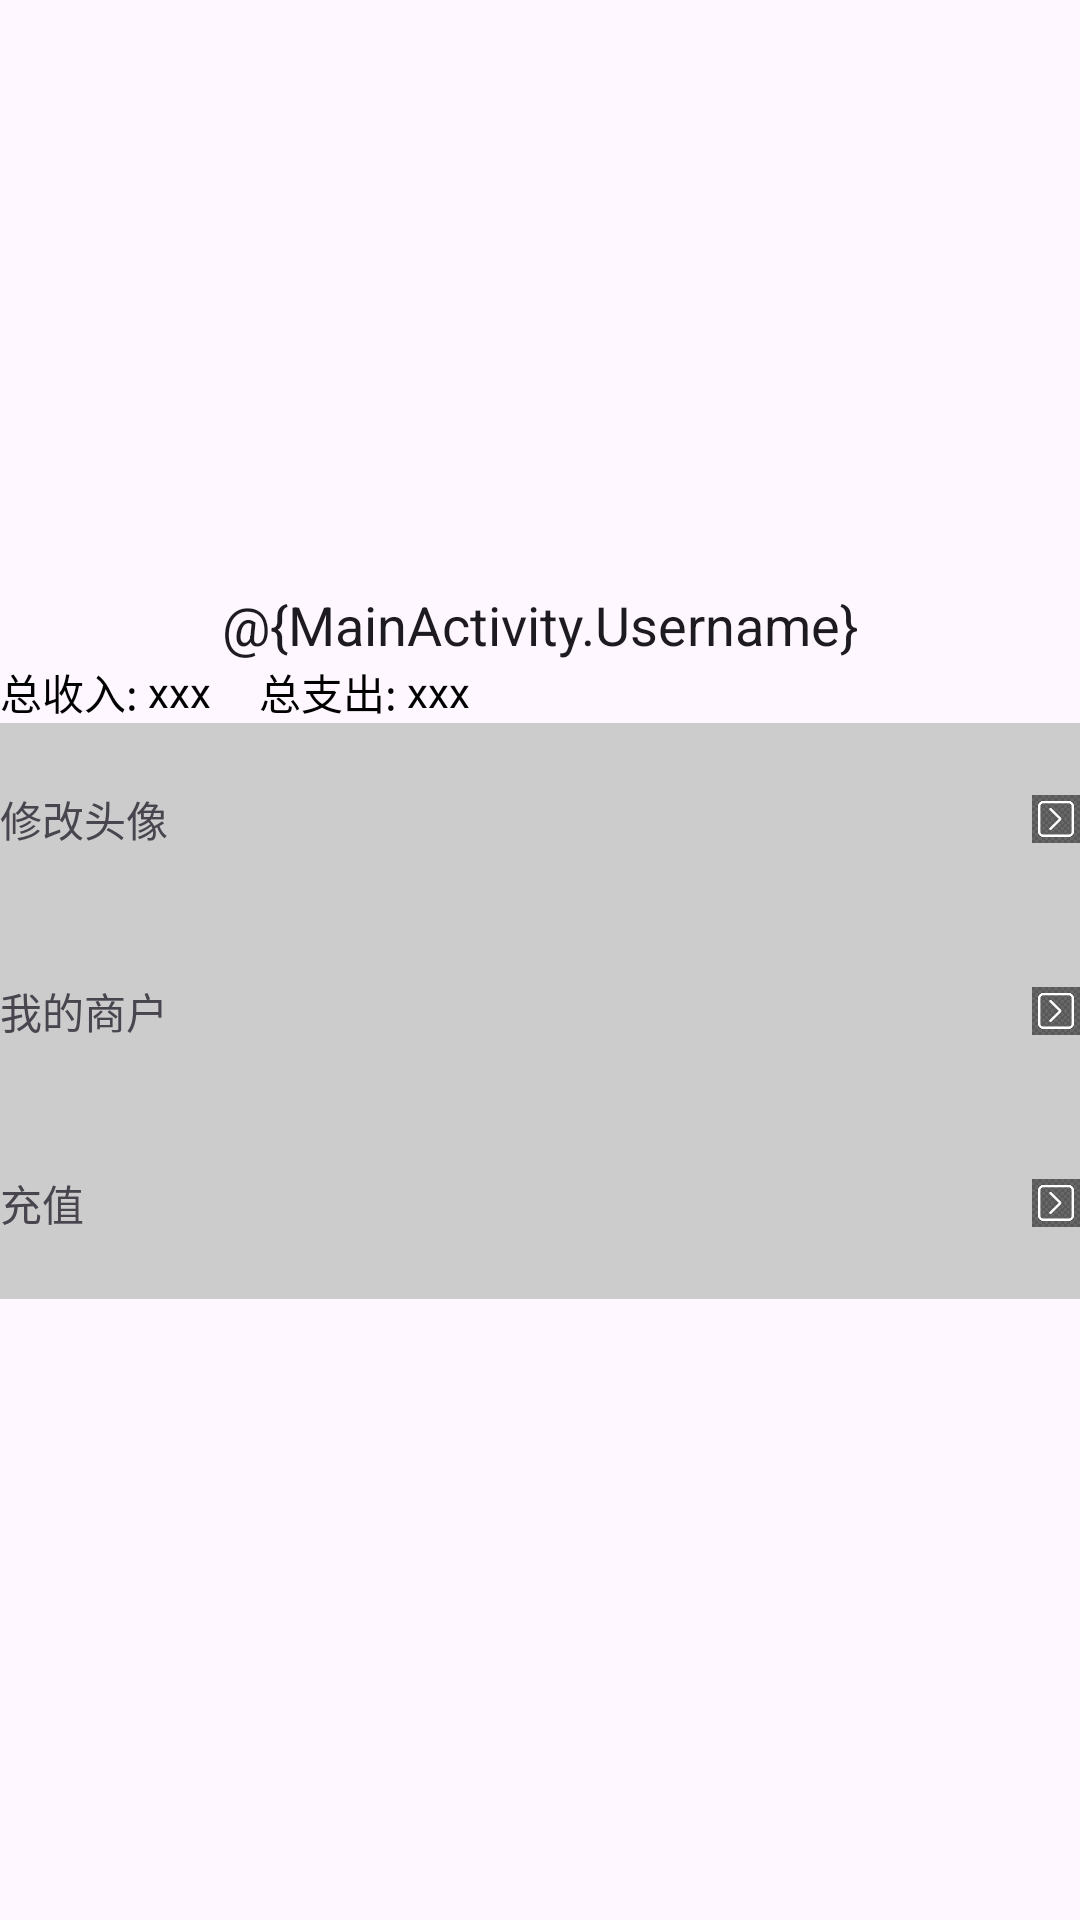

Where to tap for icons on this 1080 × 1920 app screen, as point (x, y):
jiantou: point (1056, 819), point (1056, 1011), point (1056, 1203)
